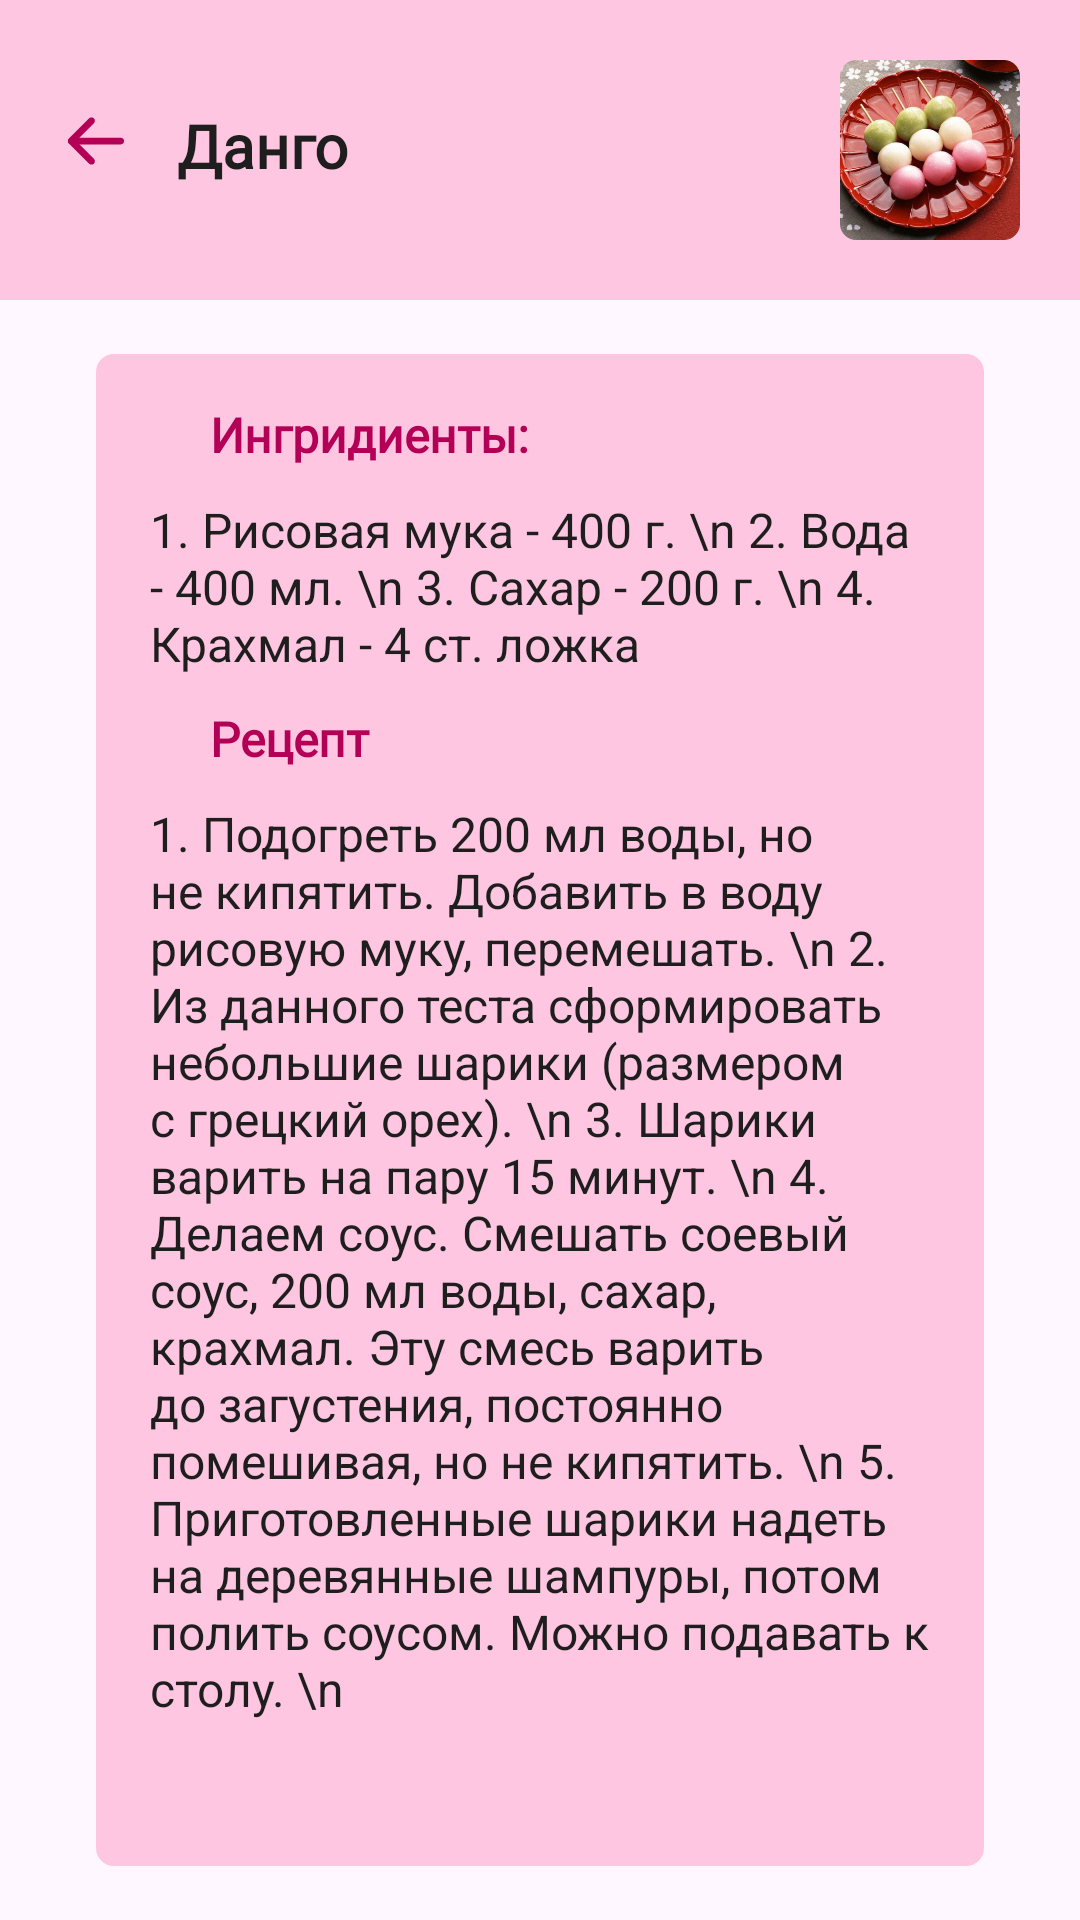

Screen size 1080x1920. Icon name, then its center in pixels as (x=x, y=y):
second back: (x=96, y=141)
